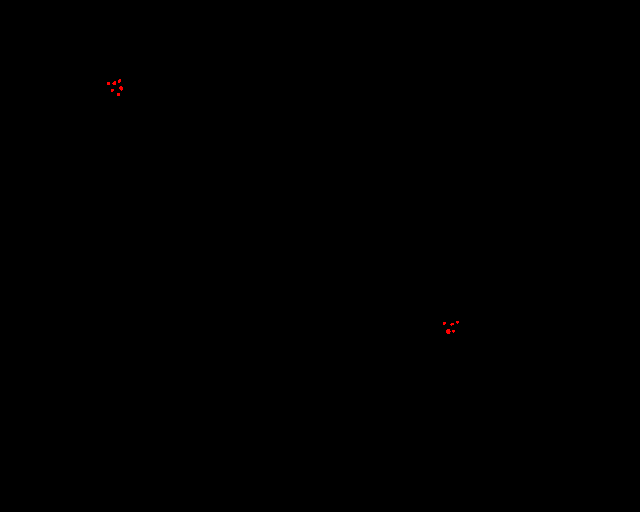Target: (446, 329, 451, 334), (119, 86, 123, 91), (112, 81, 116, 85), (118, 79, 121, 83), (450, 323, 454, 326), (107, 82, 110, 85), (111, 89, 114, 92), (117, 93, 120, 96), (456, 321, 459, 324), (443, 322, 446, 325), (452, 330, 455, 333)
